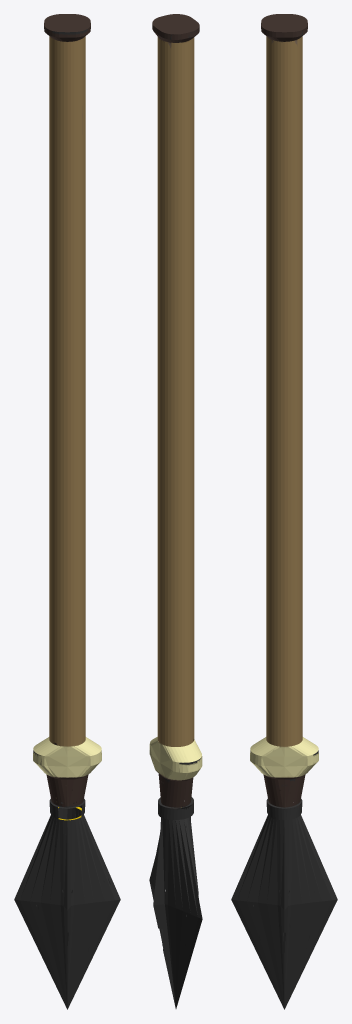
The model's file is spear.obj.
3 renders of one model, left to right at view 1: azimuth 90°, elevation 25°; view 2: azimuth 210°, elevation 25°; view 3: azimuth 270°, elevation 25°, orthographic.
Visible parts, largest first — view 1: 円柱.001; view 2: 円柱.001; view 3: 円柱.001.
Boxes of the visible parts, box(x1,y1,x2,y2) form: 円柱.001: box(14, 14, 120, 1009); 円柱.001: box(149, 14, 202, 1008); 円柱.001: box(231, 14, 337, 1009).
Size of the model in its own units: 0.4324 by 8.94 by 0.8747.
1 material, 1 textured.
